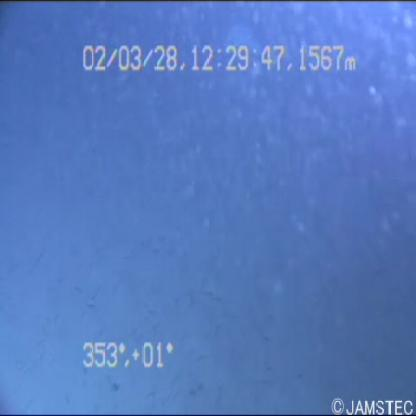Rác: (214, 16, 271, 88)
